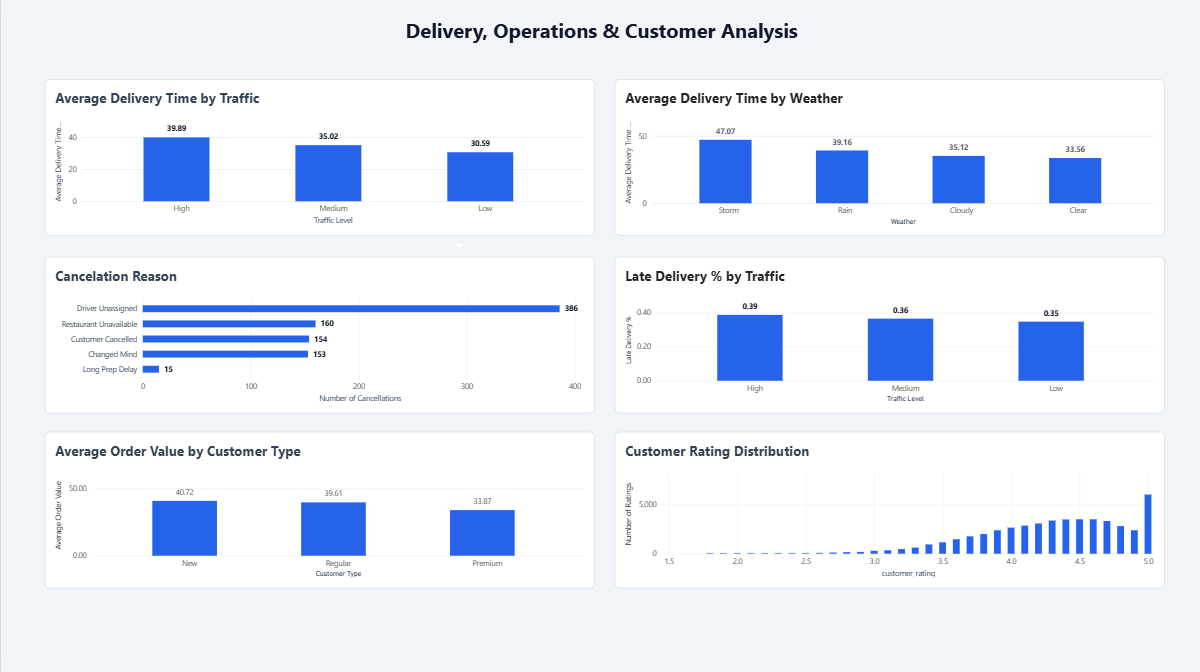

Layout of this report page (visuals, bound fields, positions):
{"tool":"powerbi","page":{"name":"Delivery, Operations & Customer Analysis.","canvas":[1920,1080],"ordinal":1},"visuals":[{"type":"clusteredColumnChart","title":"Average Delivery Time by Traffic","fields":{"Category":["food_delivery_orders_cleaned.traffic_level"],"Y":["Avg(food_delivery_orders_cleaned.actual_delivery_time_minutes)"]},"box":[70,130,880,250],"z":0},{"type":"clusteredColumnChart","title":"Customer Rating Distribution","fields":{"Category":["food_delivery_orders_cleaned.customer_rating"],"Y":["CountNonNull(food_delivery_orders_cleaned.order_id)"]},"box":[981.4,694.3,880,250],"z":1000},{"type":"clusteredColumnChart","title":"Late Delivery % by Traffic","fields":{"Category":["food_delivery_orders_cleaned.traffic_level"],"Y":["food_delivery_orders_cleaned.Late Delivery %"]},"box":[981.4,414.3,880,250],"z":2000},{"type":"clusteredBarChart","title":"Cancelation Reason","fields":{"Category":["food_delivery_orders_cleaned.cancellation_reason"],"Y":["CountNonNull(food_delivery_orders_cleaned.order_id)"]},"box":[70,414.3,880,250],"z":3000},{"type":"clusteredColumnChart","title":"Average Order Value by Customer Type","fields":{"Category":["food_delivery_orders_cleaned.customer_type"],"Y":["Avg(food_delivery_orders_cleaned.order_total)"]},"box":[70,694.3,880,250],"z":4000},{"type":"clusteredColumnChart","title":"Average Delivery Time by Weather","fields":{"Category":["food_delivery_orders_cleaned.weather"],"Y":["Avg(food_delivery_orders_cleaned.actual_delivery_time_minutes)"]},"box":[981.4,130,880,250],"z":5000},{"type":"textbox","box":[329,30,1262,60],"z":13000}]}

Visuals, with their boxes in screenshot pixels (x1, y1, x2, y2), scaled from the page's 1920x1080 canvas onto the 1200x672 screenshot:
"Average Delivery Time by Traffic" clusteredColumnChart: (x1=44, y1=81, x2=594, y2=236)
"Customer Rating Distribution" clusteredColumnChart: (x1=613, y1=432, x2=1163, y2=588)
"Late Delivery % by Traffic" clusteredColumnChart: (x1=613, y1=258, x2=1163, y2=413)
"Cancelation Reason" clusteredBarChart: (x1=44, y1=258, x2=594, y2=413)
"Average Order Value by Customer Type" clusteredColumnChart: (x1=44, y1=432, x2=594, y2=588)
"Average Delivery Time by Weather" clusteredColumnChart: (x1=613, y1=81, x2=1163, y2=236)
textbox: (x1=206, y1=19, x2=994, y2=56)
